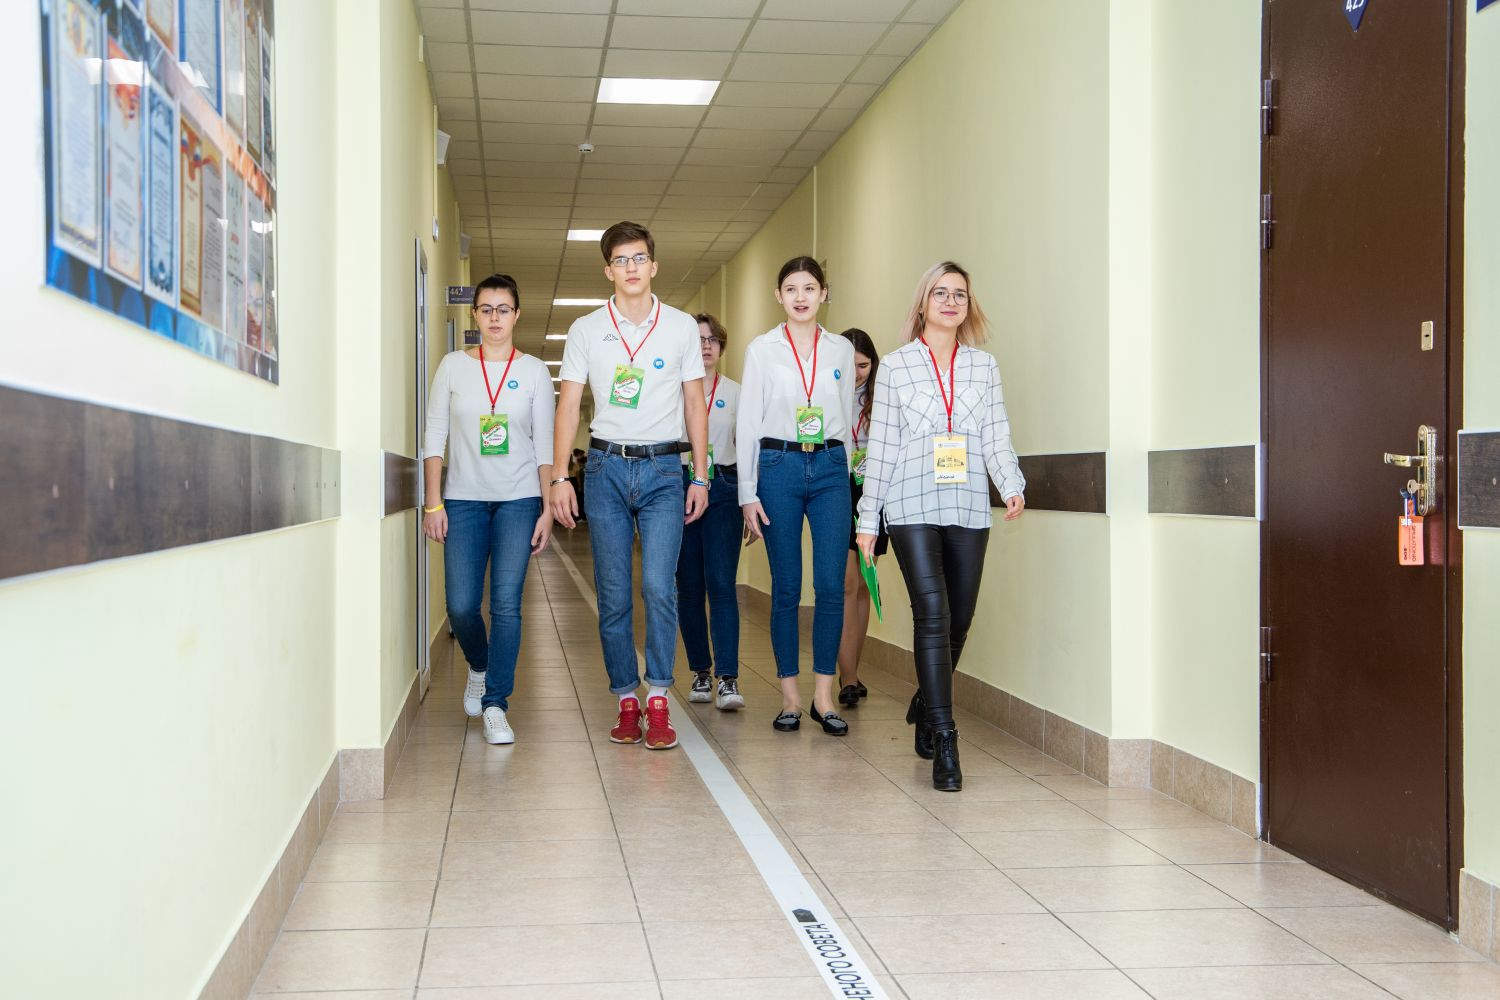students: (857, 263, 1030, 790), (554, 220, 709, 748), (424, 276, 552, 746), (735, 254, 856, 733), (677, 312, 749, 713), (838, 329, 880, 710)
